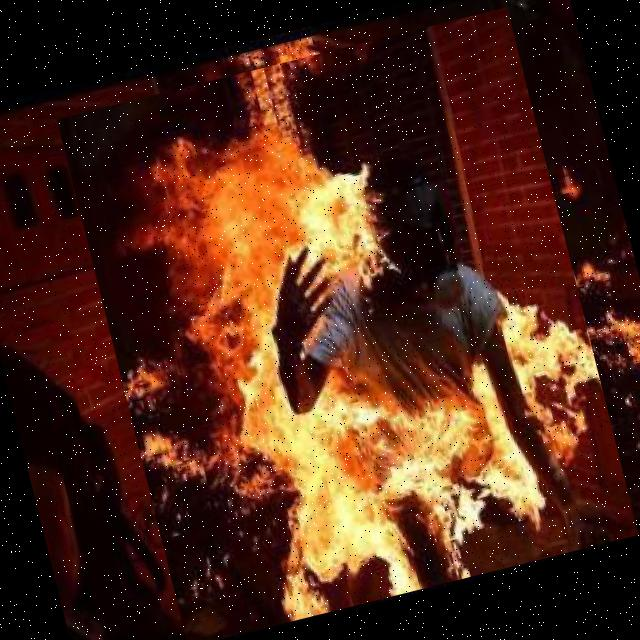fire: (56, 6, 638, 640)
